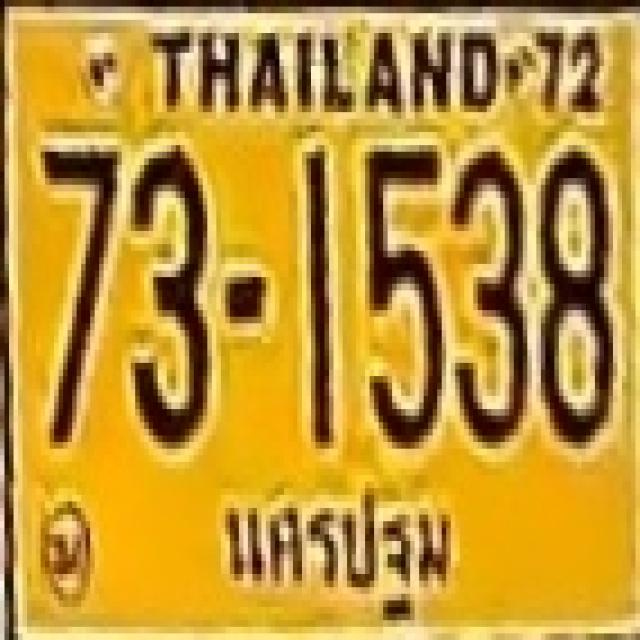1: (302, 148, 329, 439), (304, 145, 327, 403)
3: (446, 145, 523, 442), (129, 145, 205, 442)
5: (363, 145, 439, 442), (363, 145, 439, 409), (363, 145, 439, 383), (361, 145, 437, 317)
7: (41, 145, 117, 436), (41, 145, 117, 350), (41, 145, 117, 330)
8: (536, 145, 608, 442)
NPT: (221, 479, 463, 626)
